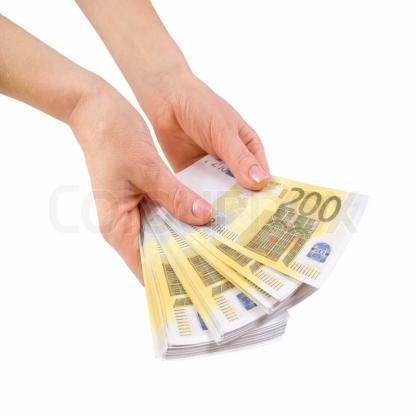billete: (135, 150, 370, 363)
